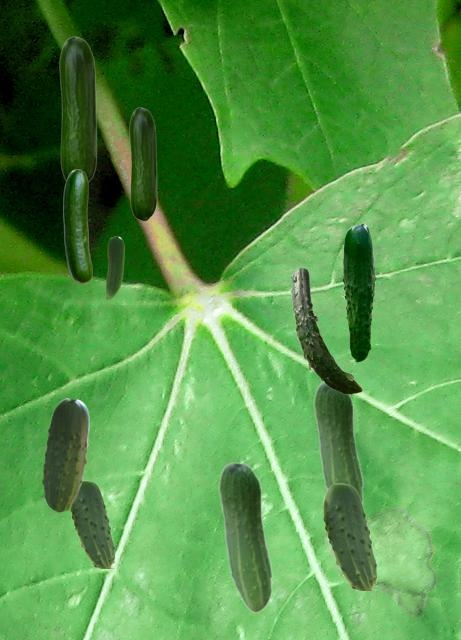cucumber: (290, 267, 361, 393), (218, 461, 272, 612), (313, 382, 363, 503), (323, 483, 375, 589), (59, 36, 96, 182), (42, 398, 88, 511), (342, 223, 375, 361), (70, 480, 113, 567), (63, 169, 91, 282), (129, 107, 156, 220), (106, 236, 123, 298)
